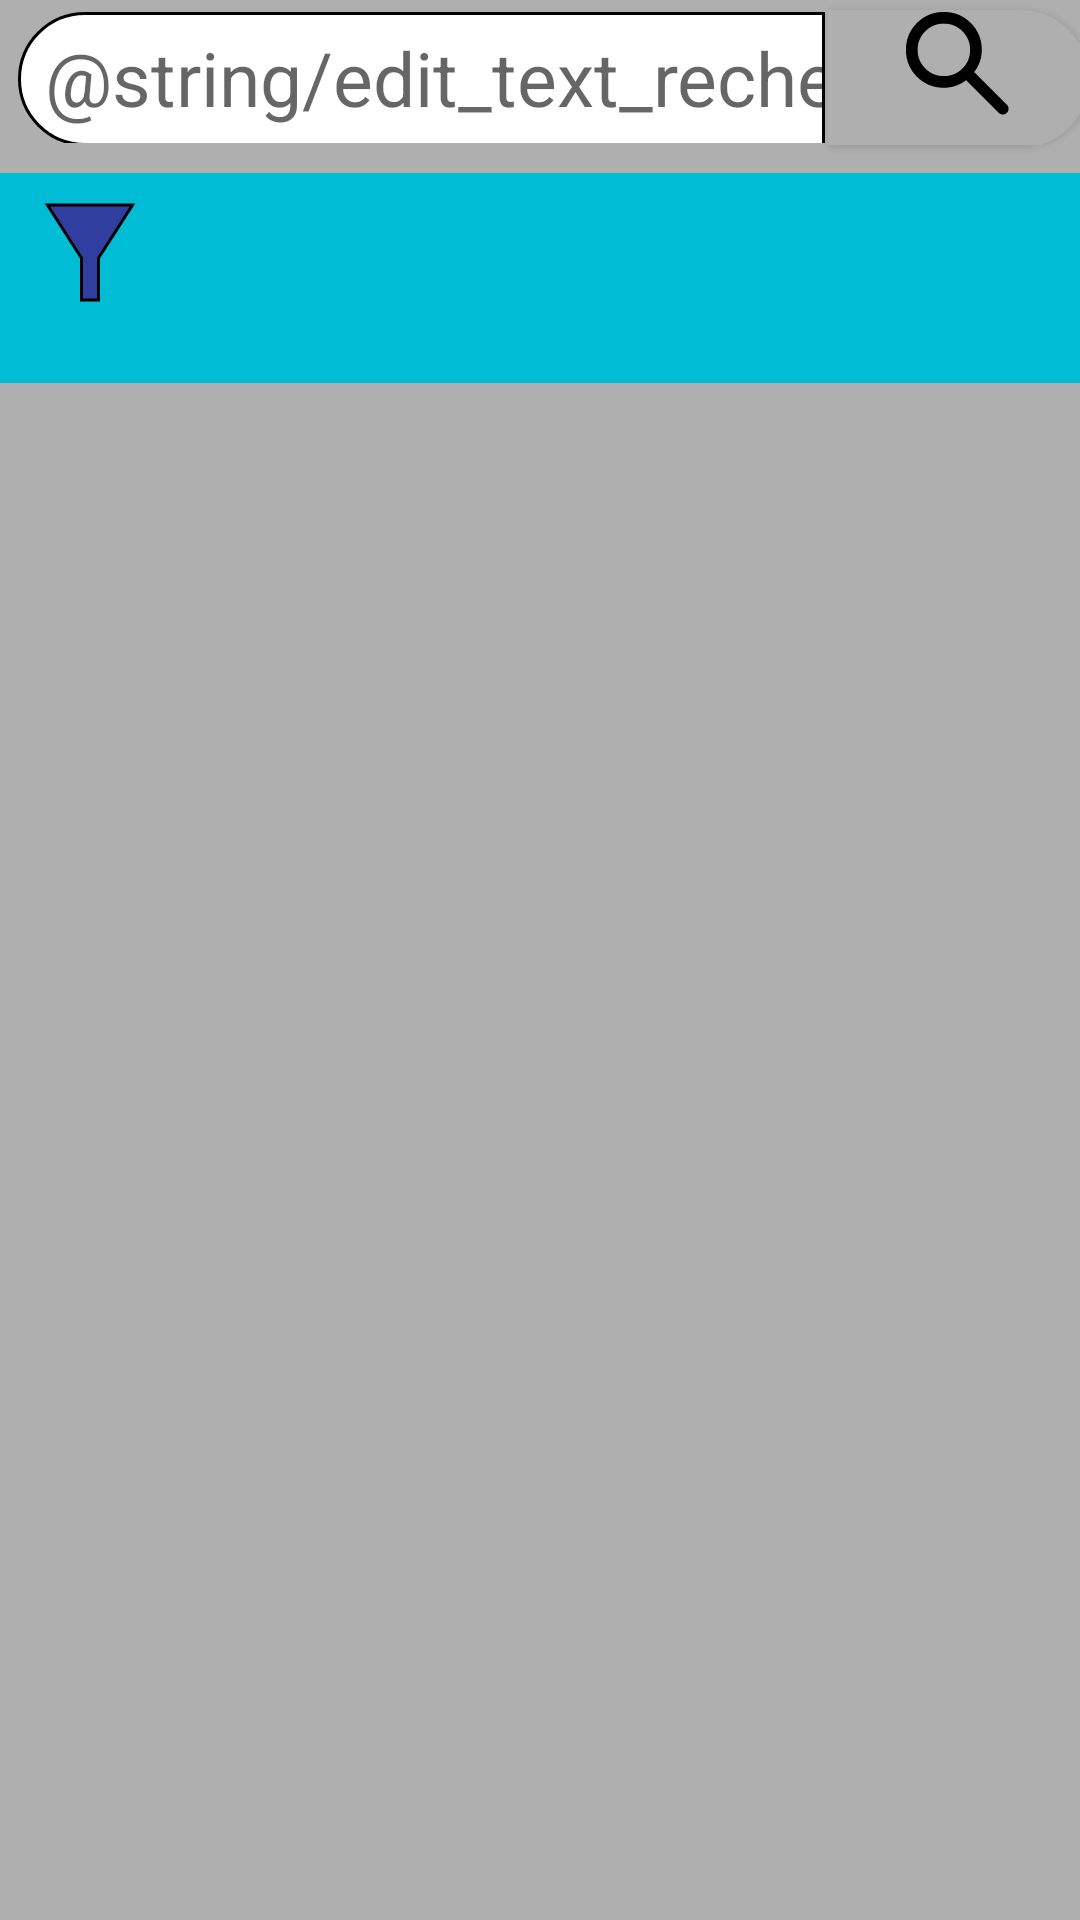

Icons on this 1080 x 1920 Android screen, each with its box as (left=x1, top=y1, right=x2, bottom=y2):
bouton recherche history: (left=906, top=12, right=1009, bottom=115)
